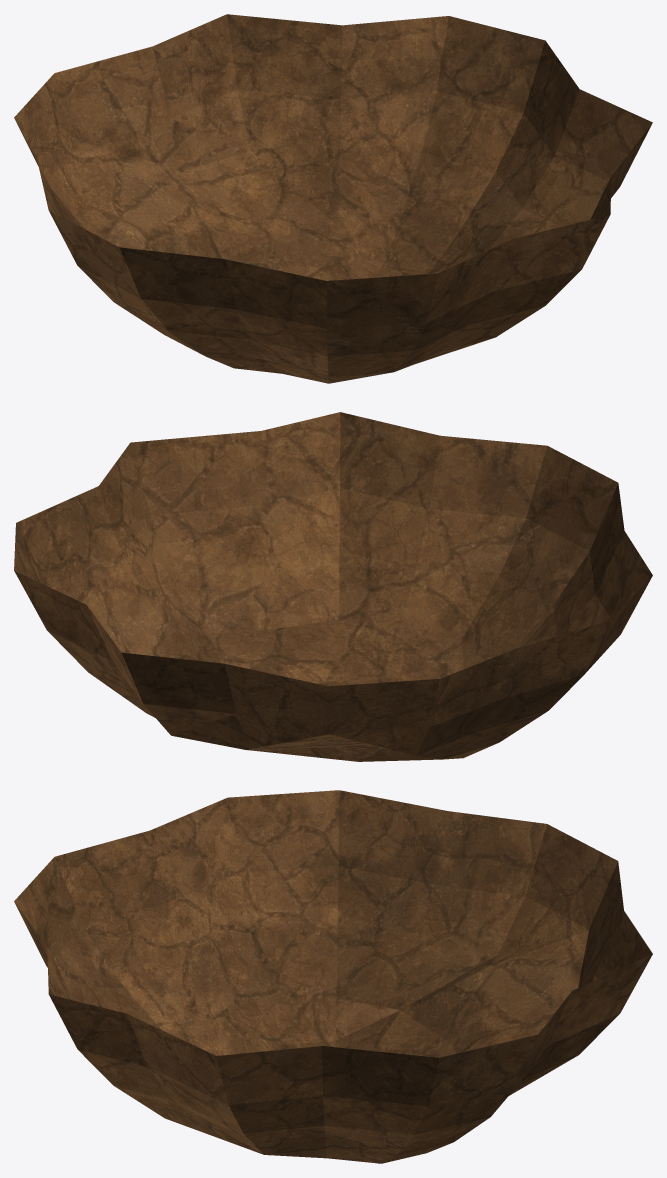
The model's file is piattaforma_scoscesa3.fbx.
3 views of the same model, one above another, from view 1: azimuth 30°, elevation 25°; view 2: azimuth 150°, elevation 25°; view 3: azimuth 270°, elevation 25° (orthographic).
Visible parts, largest first — view 1: ground3; view 2: ground3; view 3: ground3.
Boxes of the visible parts, x1,y1,x2,y2 form: ground3: (14, 14, 652, 383); ground3: (14, 412, 652, 761); ground3: (14, 790, 652, 1163).
Size of the model in its own units: 366 by 120 by 369.
